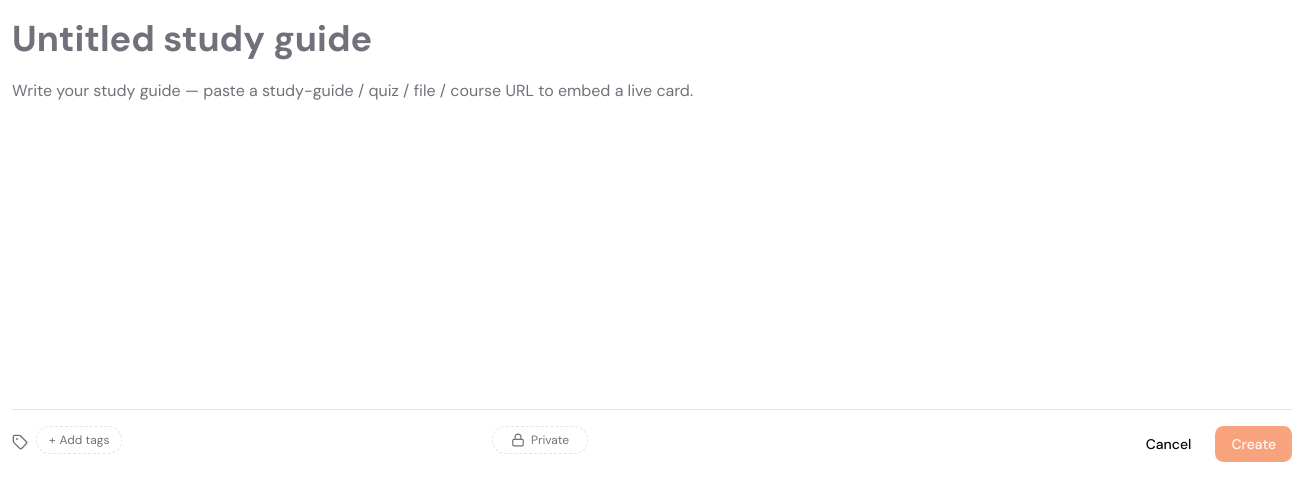
Test: StudyGuideForm / tag chips › adds a chip when the user types and presses Enter
Click the button "+ Add tags".
click(79, 440)  # box [36,426,122,454]
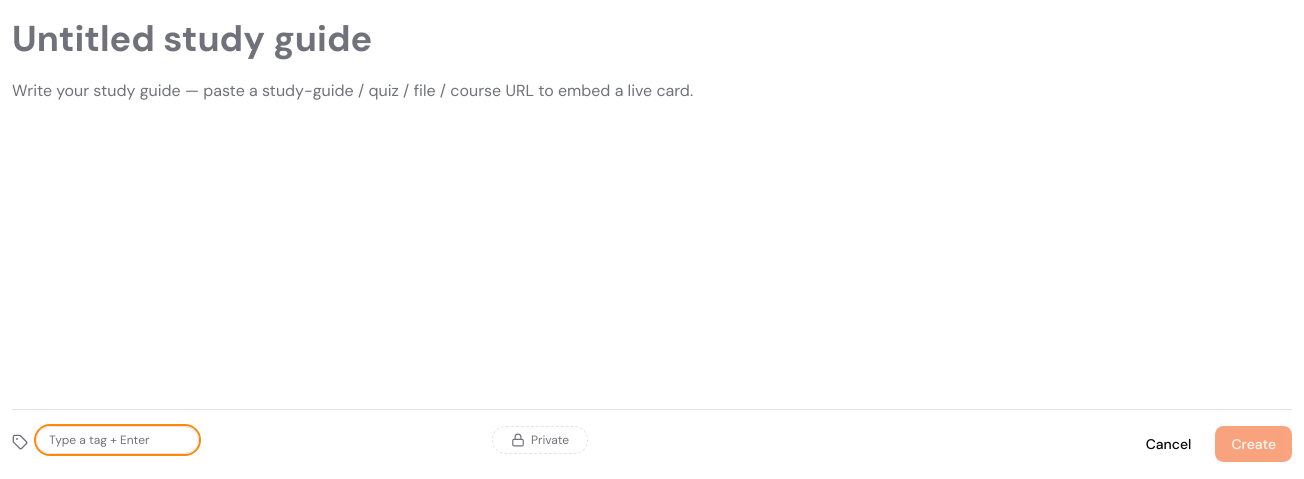
Type "midterm" into the field named "new tag".
click(118, 440); type("midterm")  # box [36,426,199,454]
Then press Enter
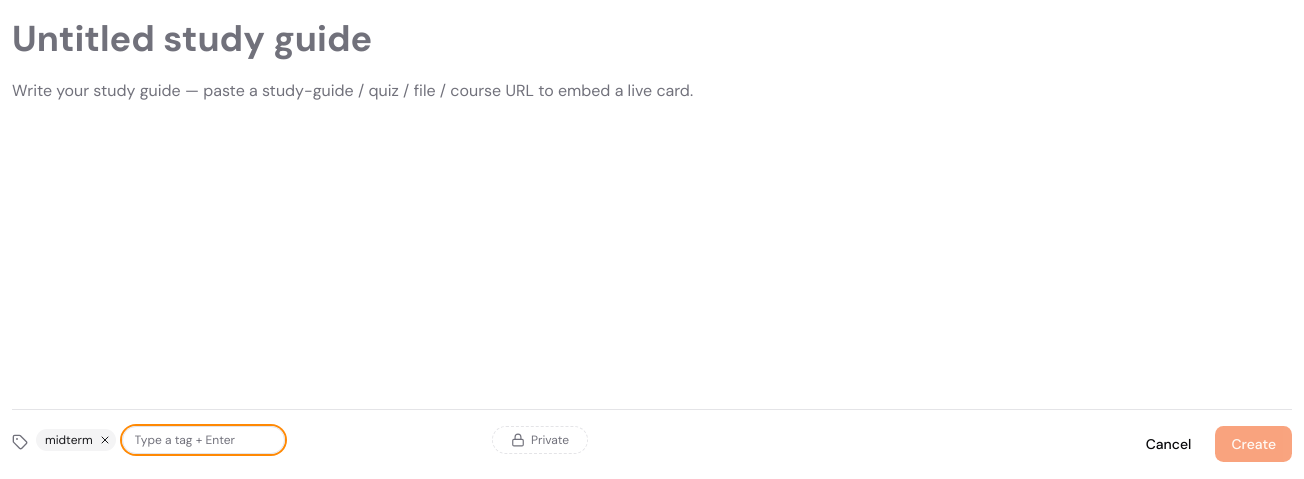
Result: the text "midterm" is shown at [36,429,116,451]
